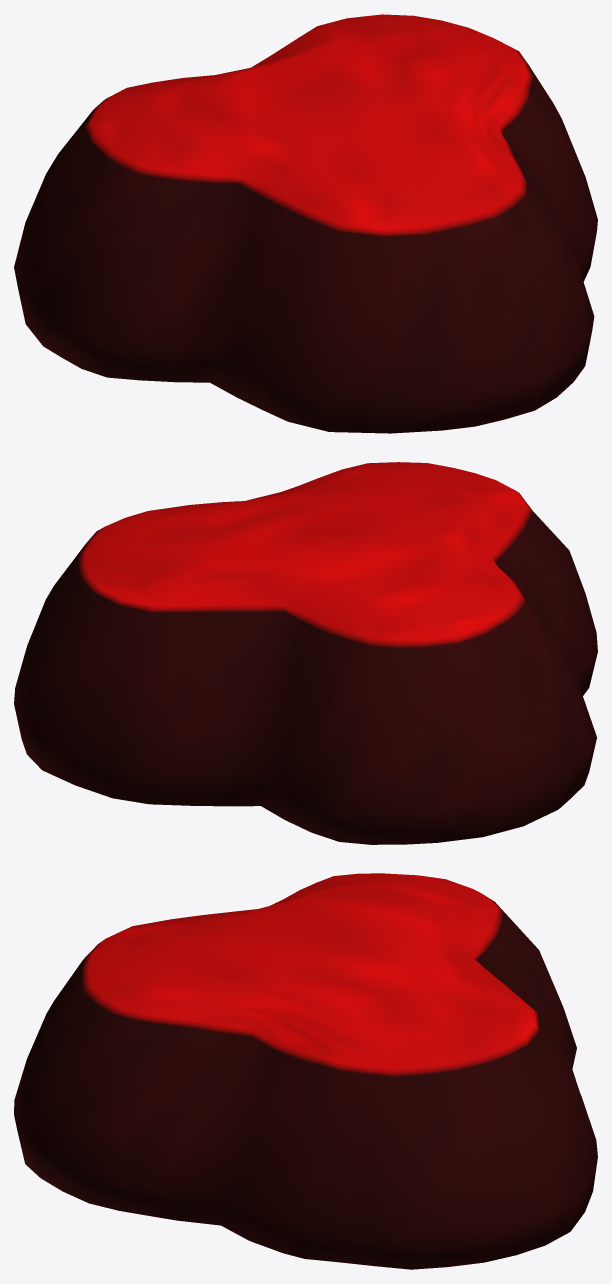
The model's file is geology-landforms-icehillmedium_v4.fbx.
The picture shows the model from 3 angles, top to bottom: view 1: azimuth 30°, elevation 25°; view 2: azimuth 150°, elevation 25°; view 3: azimuth 270°, elevation 25°; orthographic projection. The views are drawn at different scales.
Visible parts, largest first — view 1: IceHillMedium_v4; view 2: IceHillMedium_v4; view 3: IceHillMedium_v4.
Boxes of the visible parts, bbox=[...] form: IceHillMedium_v4: bbox=[14, 14, 597, 433]; IceHillMedium_v4: bbox=[14, 462, 597, 844]; IceHillMedium_v4: bbox=[14, 873, 597, 1269].
Size of the model in its own units: 65.11 by 24.47 by 63.39.
